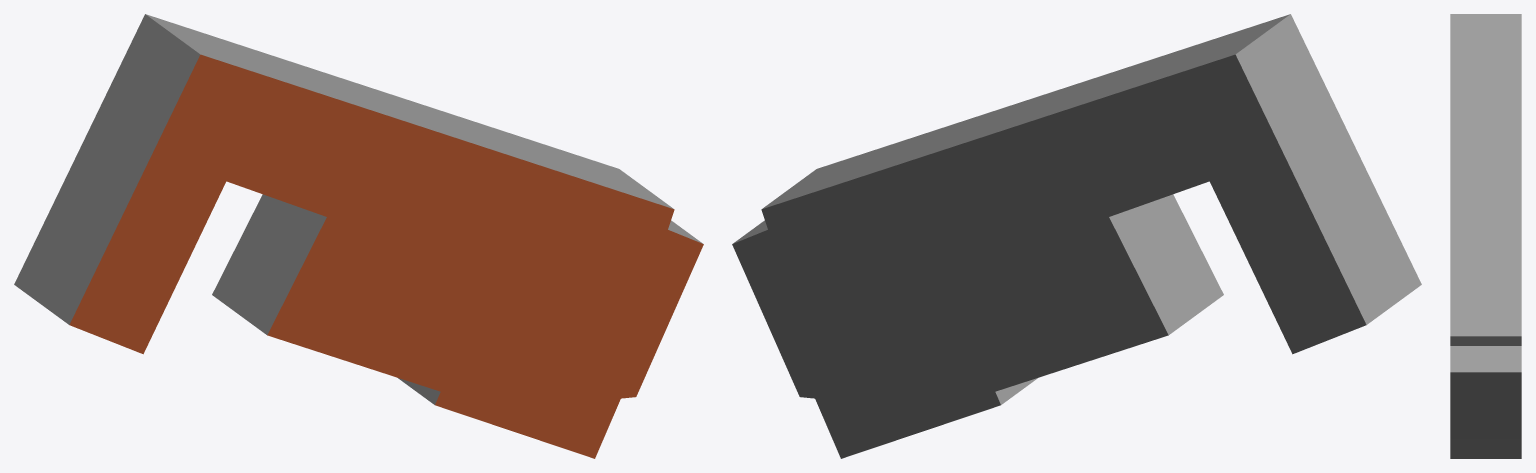
The model's file is construction_1472_assumed_A_Casa_h6m.obj.
3 views of the same model, side by side, from view 1: azimuth 30°, elevation 25°; view 2: azimuth 150°, elevation 25°; view 3: azimuth 270°, elevation 25° (orthographic). The views are drawn at different scales.
Parts seen in each view (by area): view 1: construction_1472_assumed_A_Casa; view 2: construction_1472_assumed_A_Casa; view 3: construction_1472_assumed_A_Casa.
Part boxes in pixels (left/top/right/bottom): construction_1472_assumed_A_Casa: left=14, top=14, right=703, bottom=458; construction_1472_assumed_A_Casa: left=732, top=14, right=1421, bottom=458; construction_1472_assumed_A_Casa: left=1450, top=14, right=1521, bottom=458.
Size of the model in its own units: 39.74 by 29.97 by 6.
